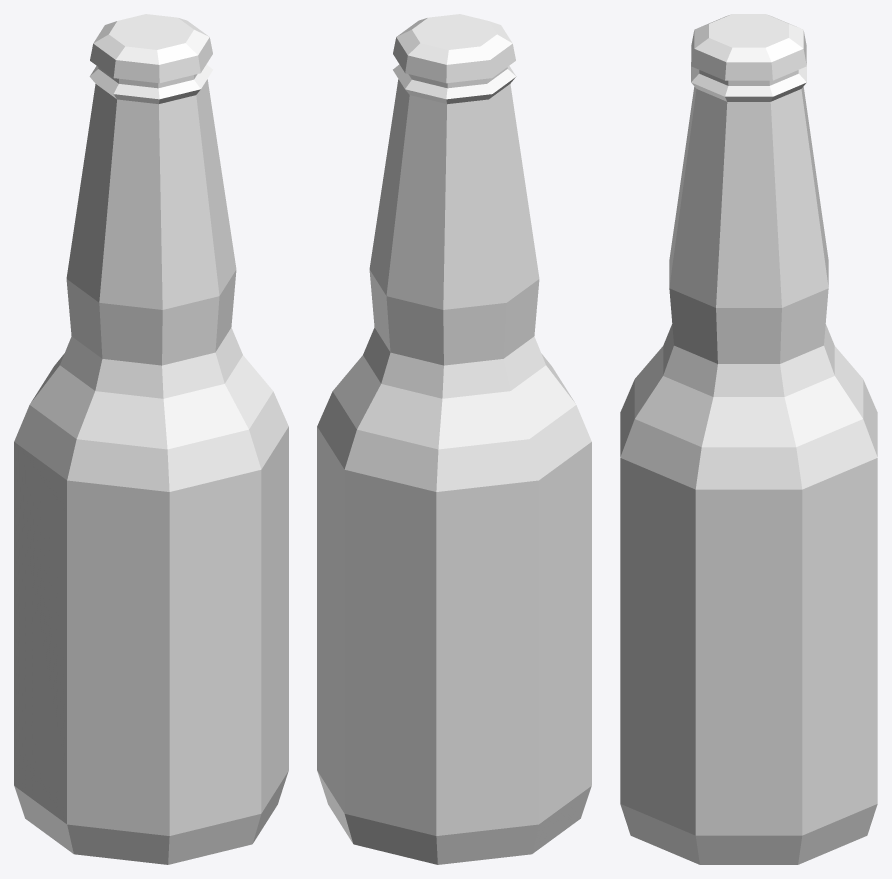
The model's file is Prop_Beer_Bottle_03.glb.
3 renders of one model, left to right at view 1: azimuth 30°, elevation 25°; view 2: azimuth 150°, elevation 25°; view 3: azimuth 270°, elevation 25°, orthographic.
Visible parts, largest first — view 1: Prop_Beer_Bottle_03; view 2: Prop_Beer_Bottle_03; view 3: Prop_Beer_Bottle_03.
Boxes of the visible parts, bbox=[...] form: Prop_Beer_Bottle_03: bbox=[14, 14, 288, 864]; Prop_Beer_Bottle_03: bbox=[317, 14, 591, 864]; Prop_Beer_Bottle_03: bbox=[620, 14, 877, 864].
Bounding box in the file's own units: 0.067 × 0.228 × 0.067.
1 material, 1 textured.
